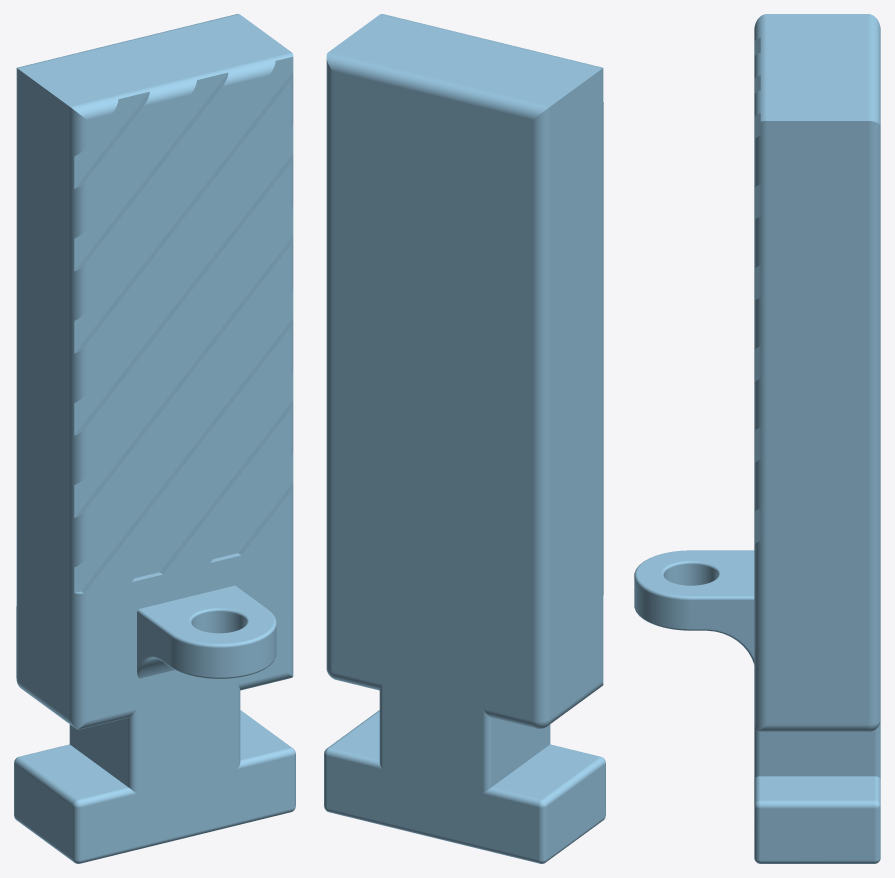
Rendered from yaw.dae.
3 renders of one model, left to right at view 1: azimuth 30°, elevation 25°; view 2: azimuth 150°, elevation 25°; view 3: azimuth 270°, elevation 25°, orthographic.
Parts seen in each view (by area): view 1: ID2; view 2: ID2; view 3: ID2.
Boxes of the visible parts, bbox=[...] form: ID2: bbox=[14, 14, 295, 863]; ID2: bbox=[324, 14, 605, 863]; ID2: bbox=[634, 14, 880, 863].
Bounding box in the file's own units: 0.02 × 0.0195 × 0.065.
